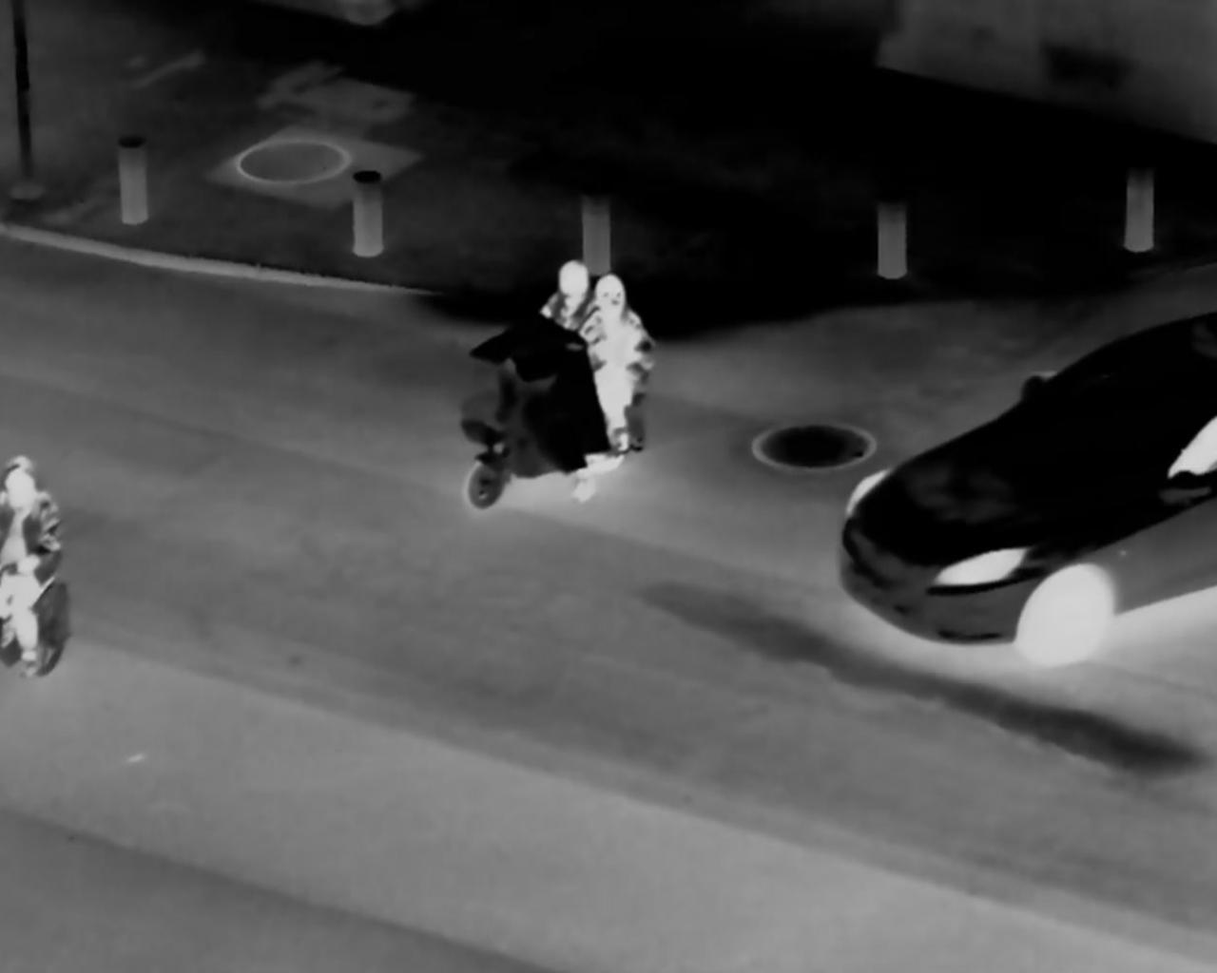person: (536, 255, 595, 494), (589, 271, 647, 461)
